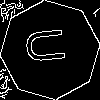U: (25, 25, 75, 66)
